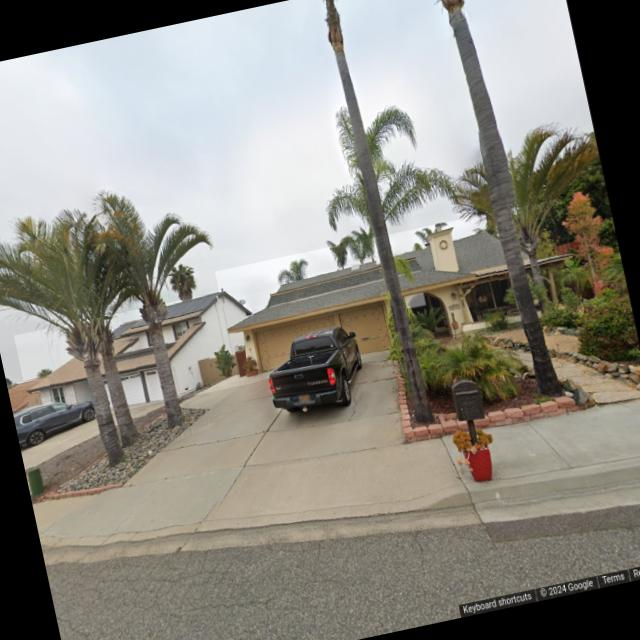House: (214, 198, 584, 384), (13, 288, 260, 430), (6, 376, 54, 412)
